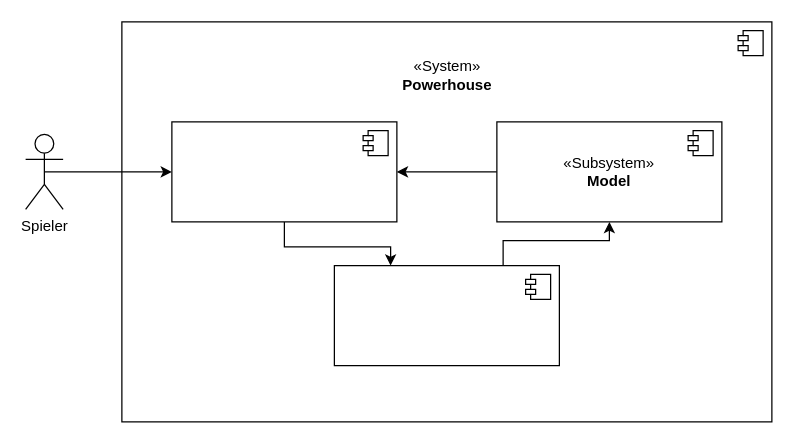
Some shapes in this 794 by 444 pixel diagram are drawn without their labels. The centre of each missing label's shape, as x and y in pixels:
"«Subsystem» Controller" goes at [446,315].
"«Subsystem» View" goes at [284,171].
